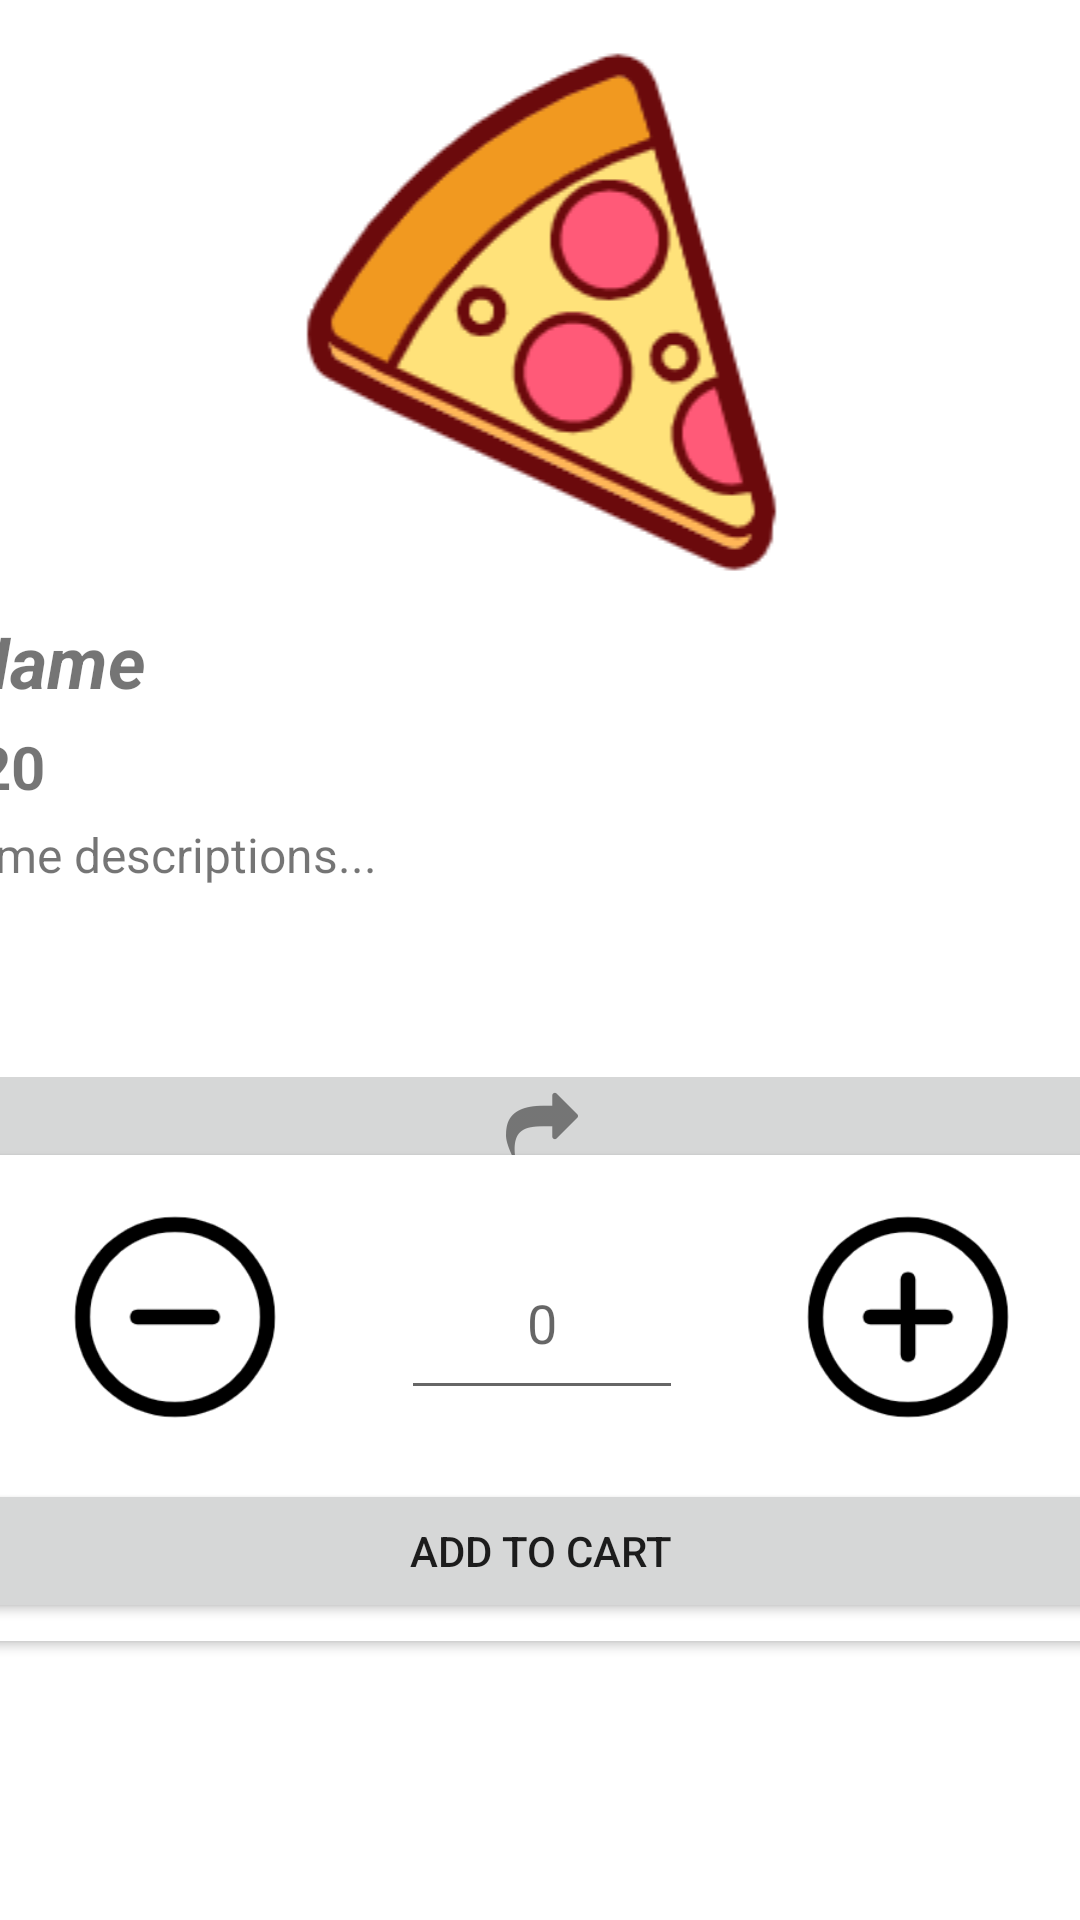

Icon bounding boxes for this 1080w x 1920h phone screenshot, format Rect(x1, y1, x2, y2):
decreasebutton: Rect(74, 1216, 276, 1418)
increasebutton: Rect(807, 1216, 1009, 1418)
